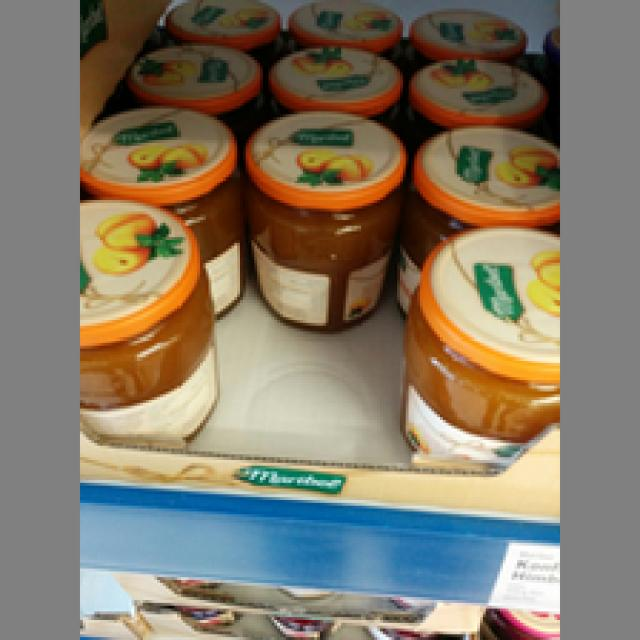groceries: (394, 217, 557, 474), (243, 108, 406, 332), (77, 197, 220, 443), (77, 106, 234, 311)
